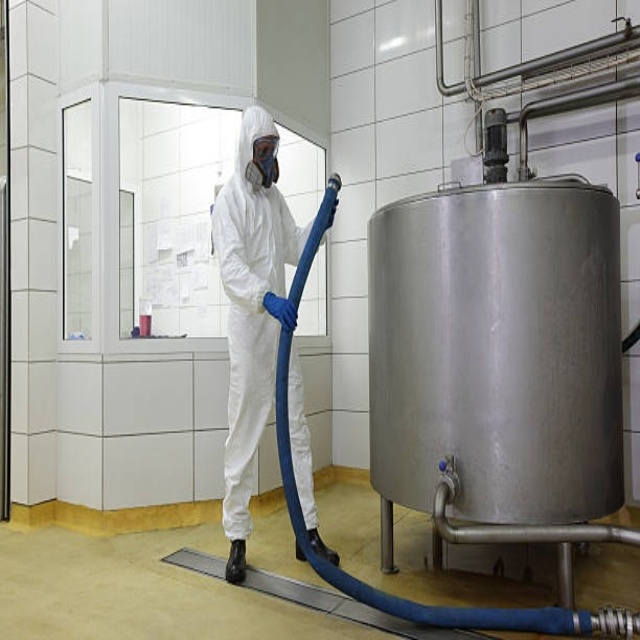Gafas: (253, 135, 280, 159)
Guantes: (263, 291, 297, 332), (325, 192, 340, 232)
Mascara: (254, 149, 278, 188)
